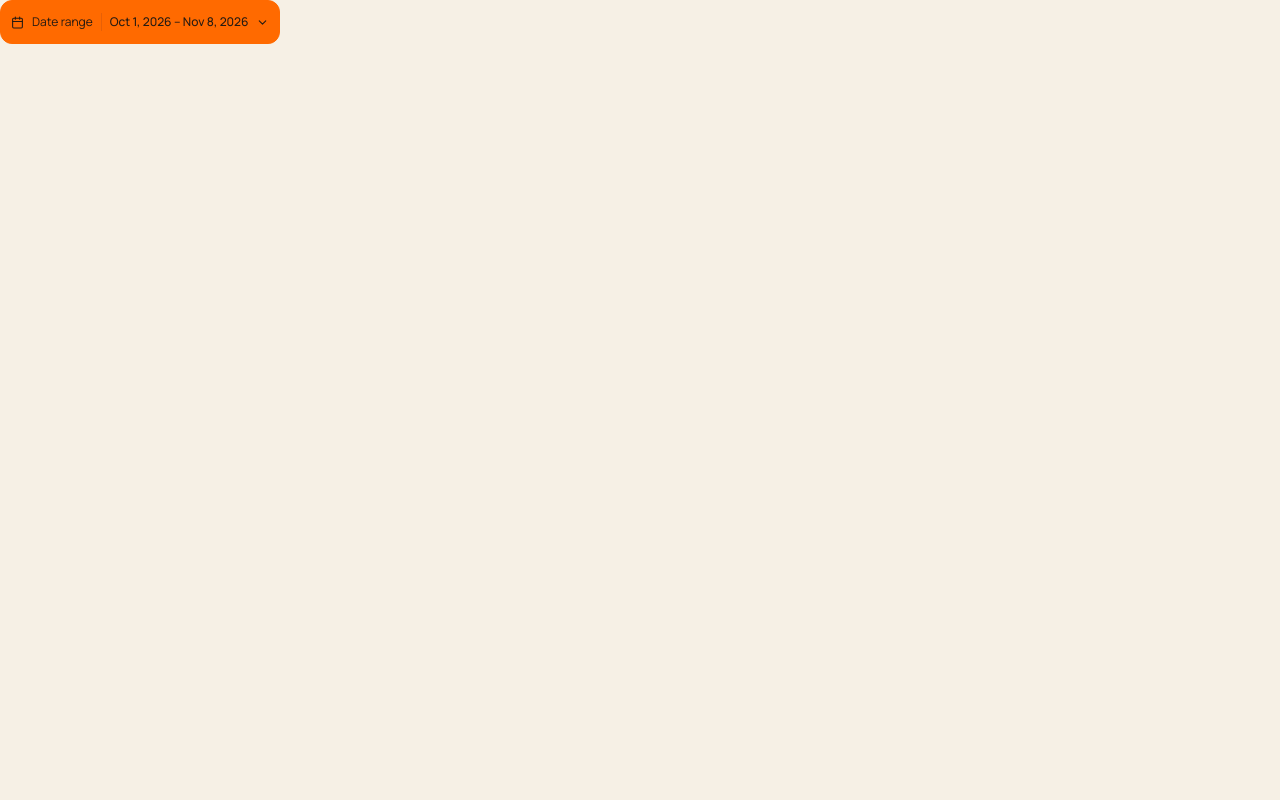
panel edits are drafts: presets and calendars never apply until Apply; cancel restores current selection
Later steps or results of the test are not shown.
Click the button "Date range Oct 1, 2026 – Nov 8, 2026": coordinates (140, 22) [0,0,280,44]
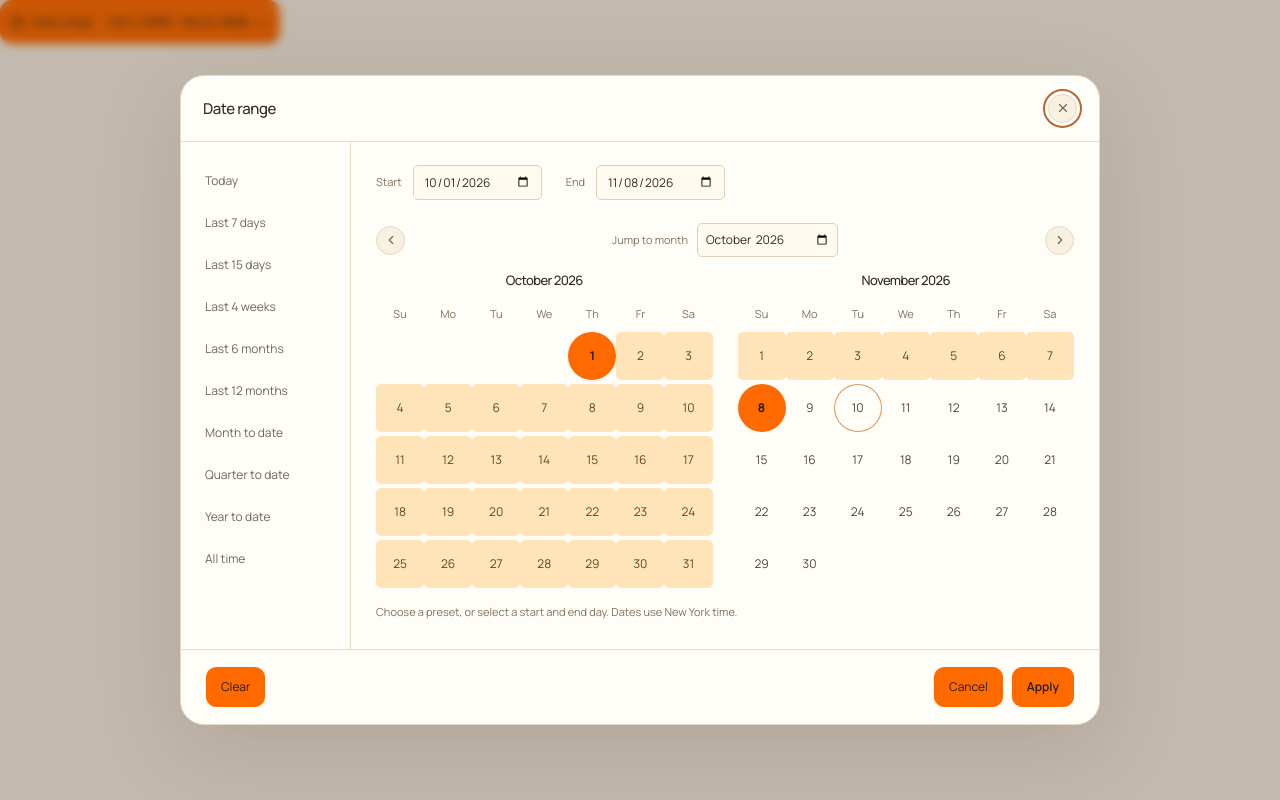
Click the button "Today": coordinates (266, 181) [193,162,338,200]
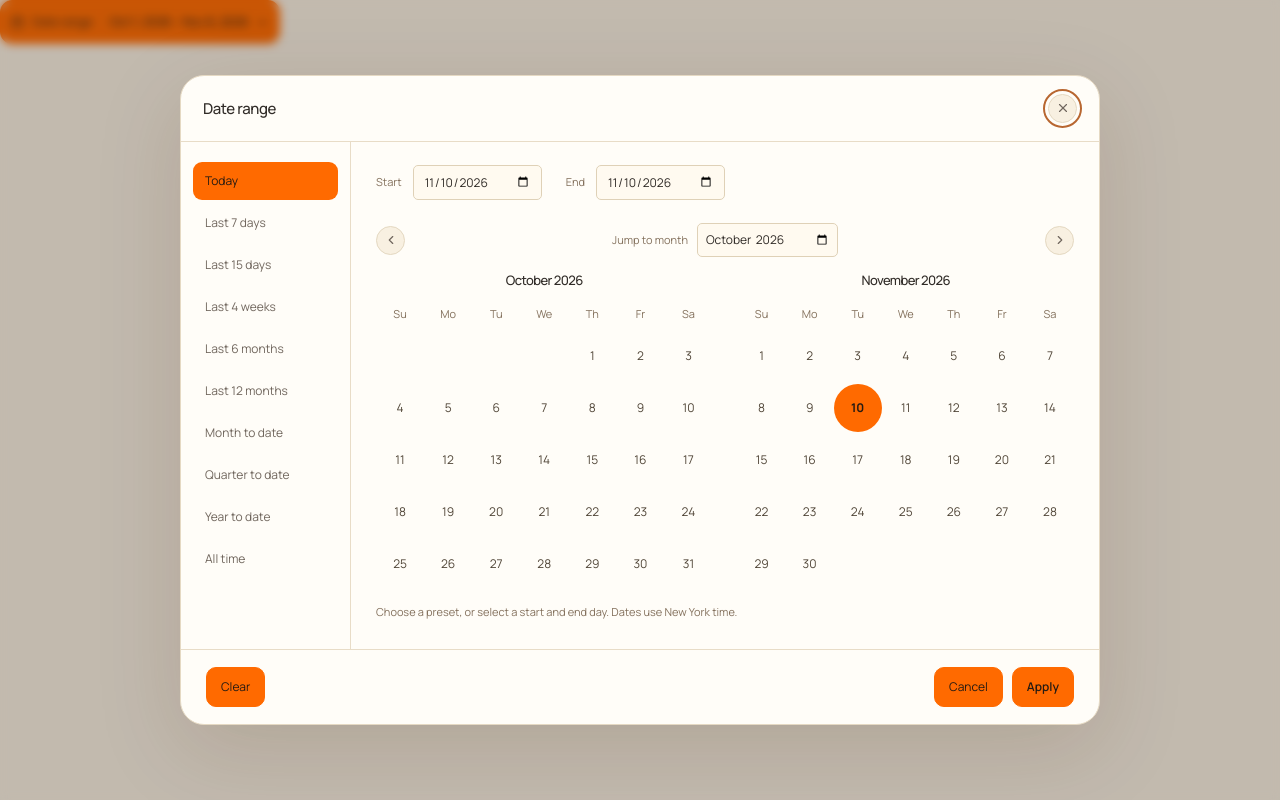
Click the button "Cancel": coordinates (968, 687) [934,667,1003,707]
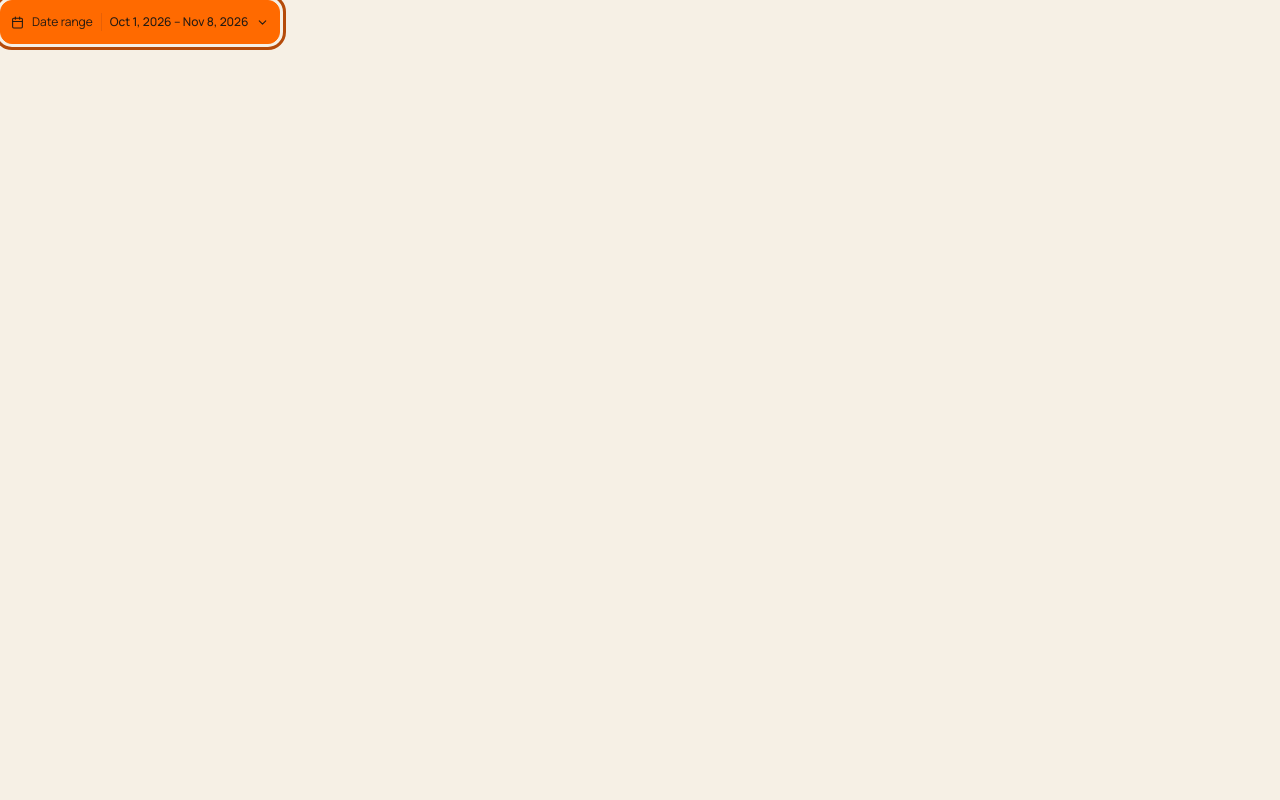
Click the button "Date range Oct 1, 2026 – Nov 8, 2026": coordinates (140, 22) [0,0,280,44]
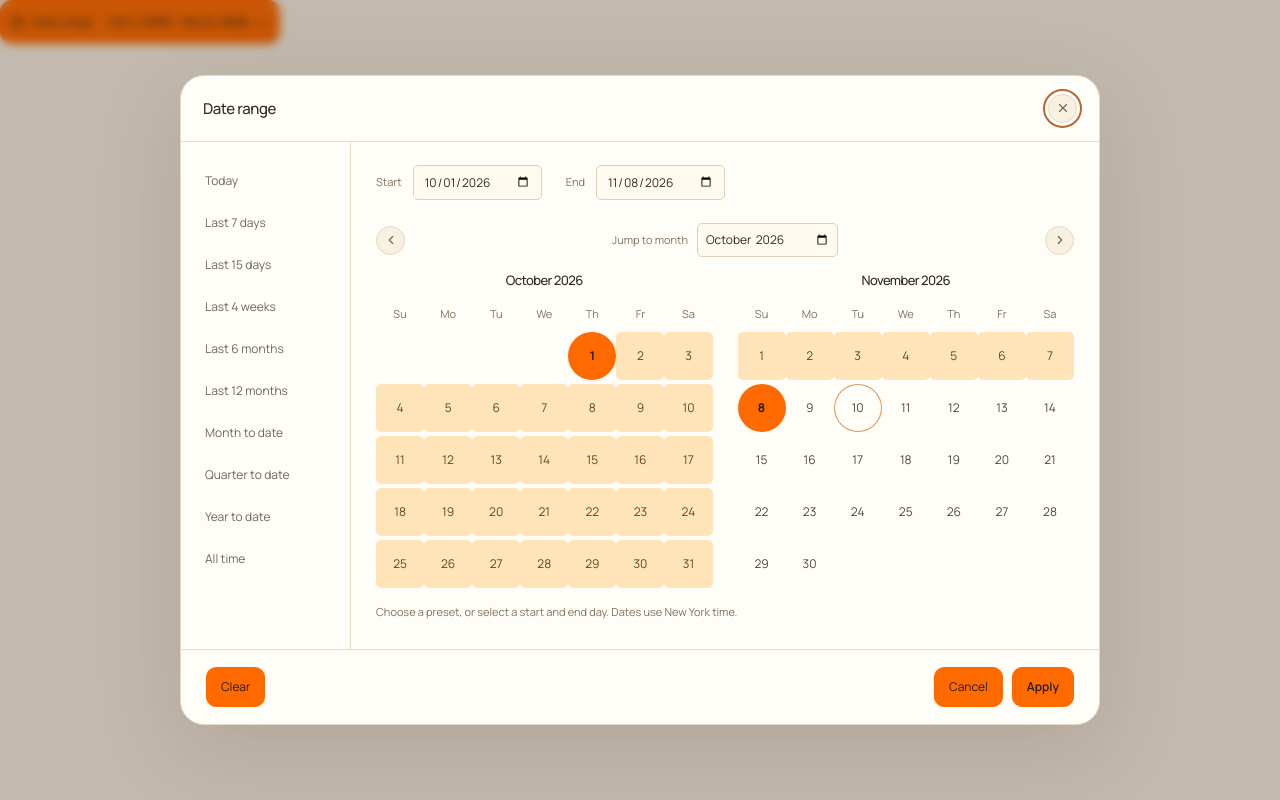
Expected: the date field labelled "Start" holds "2026-10-01", [413,165,542,200]
